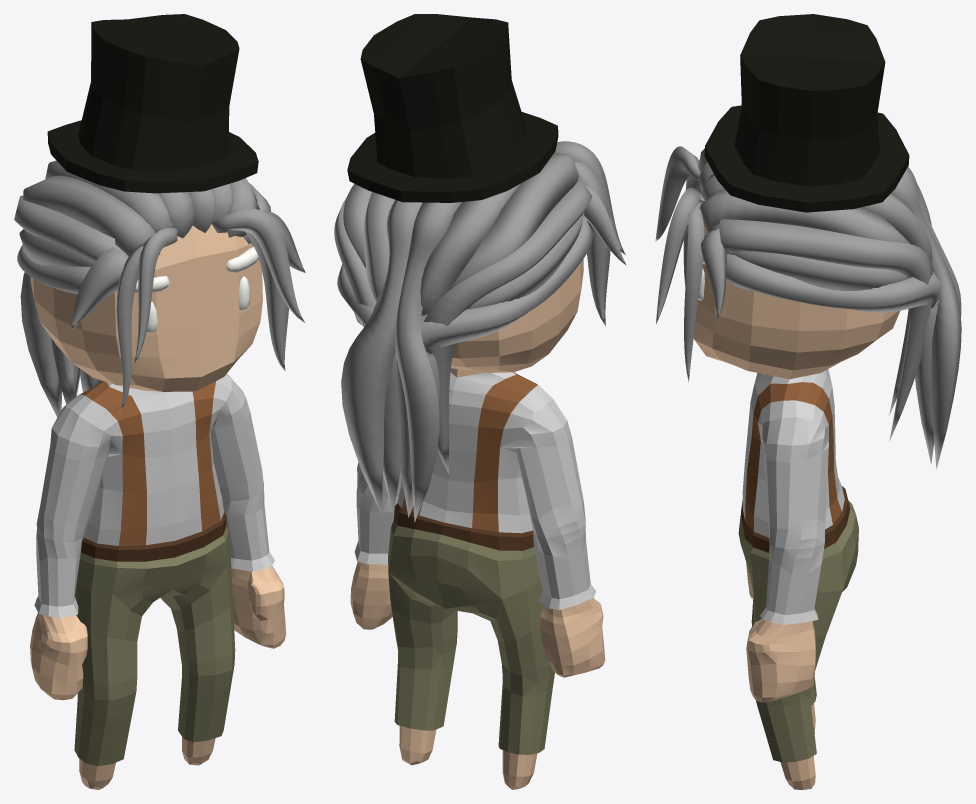
The model's file is debout-oldclassy-female.glb.
The picture shows the model from 3 angles, left to right: view 1: azimuth 30°, elevation 25°; view 2: azimuth 150°, elevation 25°; view 3: azimuth 270°, elevation 25°; orthographic projection.
Visible parts, largest first — view 1: Cube004_7, Cube004, Cube004_2, Cube004_6, Cube004_1, Cube004_3, Cube004_4, Cube004_5; view 2: Cube004_7, Cube004_6, Cube004_1, Cube004_2, Cube004, Cube004_3, Cube004_4; view 3: Cube004_7, Cube004_6, Cube004, Cube004_2, Cube004_1, Cube004_3, Cube004_4.
Part boxes in pixels (left/top/right/bottom): Cube004_7: left=14, top=160, right=305, bottom=417; Cube004: left=30, top=224, right=286, bottom=789; Cube004_2: left=34, top=374, right=274, bottom=617; Cube004_6: left=47, top=14, right=258, bottom=193; Cube004_1: left=74, top=526, right=235, bottom=765; Cube004_3: left=80, top=381, right=220, bottom=545; Cube004_4: left=81, top=512, right=226, bottom=561; Cube004_5: left=134, top=246, right=258, bottom=333; Cube004_7: left=334, top=141, right=626, bottom=522; Cube004_6: left=347, top=14, right=558, bottom=202; Cube004_1: left=388, top=520, right=554, bottom=754; Cube004_2: left=354, top=372, right=595, bottom=609; Cube004: left=350, top=189, right=605, bottom=789; Cube004_3: left=402, top=372, right=537, bottom=532; Cube004_4: left=394, top=503, right=533, bottom=550; Cube004_7: left=655, top=146, right=961, bottom=469; Cube004_6: left=704, top=14, right=909, bottom=212; Cube004: left=693, top=224, right=899, bottom=789; Cube004_2: left=742, top=369, right=844, bottom=624; Cube004_1: left=738, top=500, right=858, bottom=762; Cube004_3: left=745, top=369, right=841, bottom=531; Cube004_4: left=741, top=486, right=850, bottom=552.
Bounding box in the file's own units: 0.5505 × 1.59 × 0.6005.
